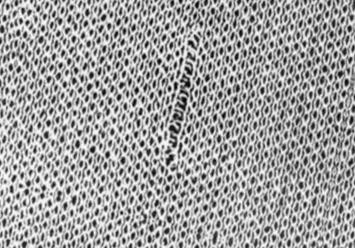slub: (163, 38, 201, 165)
